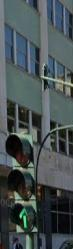green_light: (6, 133, 39, 233)
